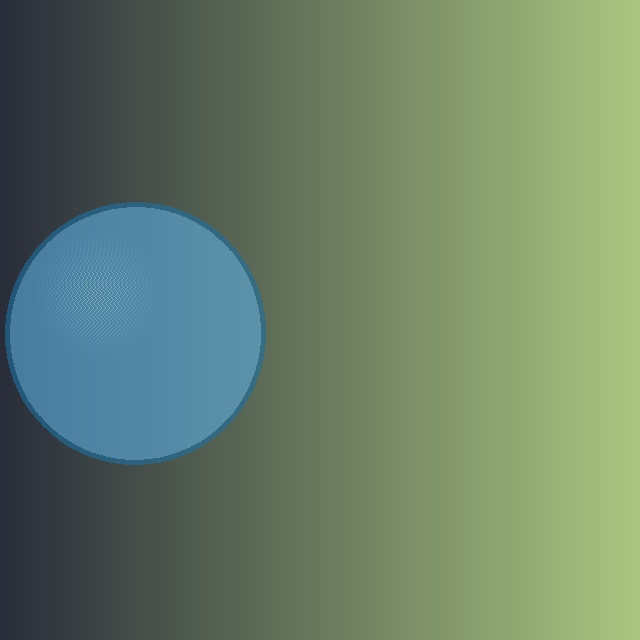lens: (7, 204, 263, 462)
